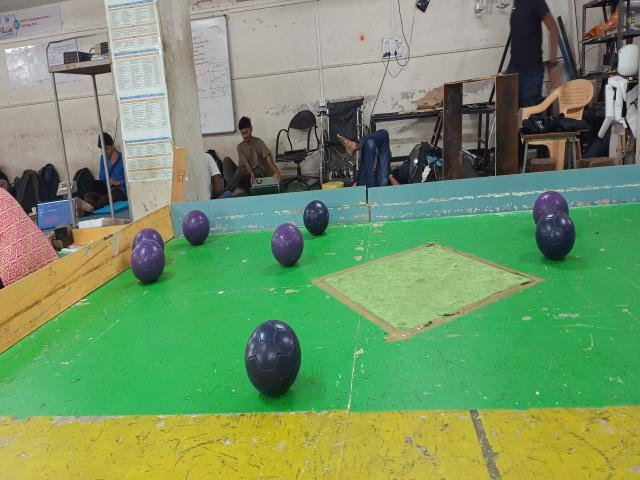jambhalya: (131, 240, 165, 283), (271, 223, 304, 267), (532, 190, 569, 225), (182, 210, 210, 245), (132, 228, 164, 250)
kaalyya: (245, 320, 301, 397), (535, 210, 575, 260), (304, 200, 329, 235)
